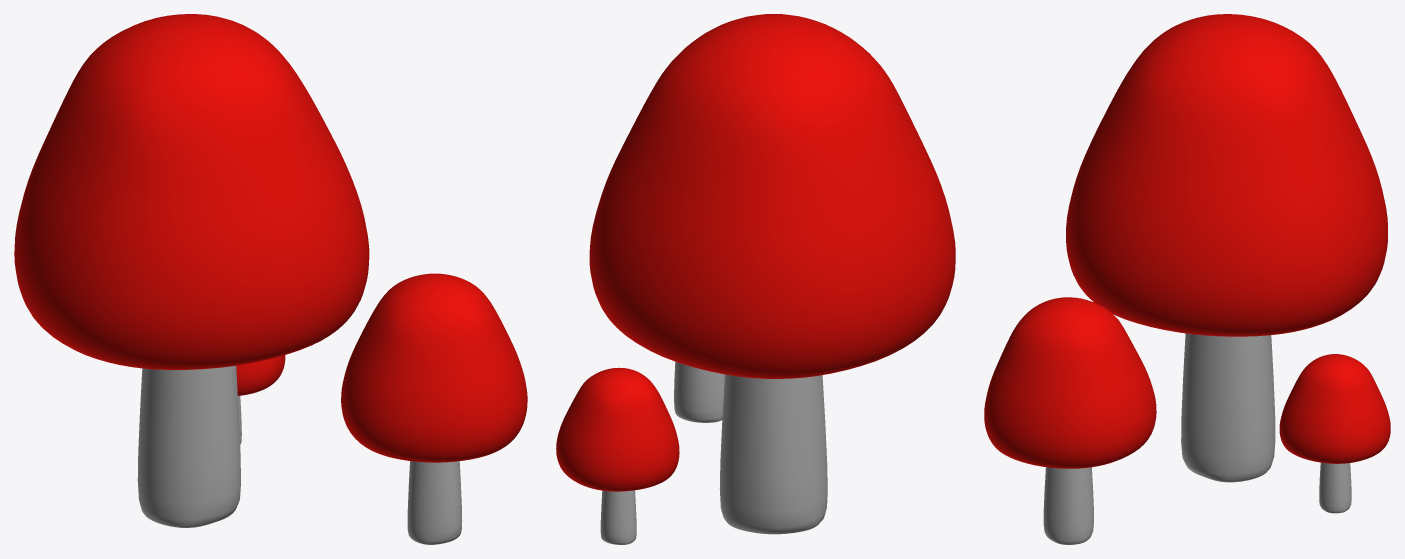
The model's file is mushroom.fbx.
3 renders of one model, left to right at view 1: azimuth 30°, elevation 25°; view 2: azimuth 150°, elevation 25°; view 3: azimuth 270°, elevation 25°, orthographic. The views are drawn at different scales.
Parts seen in each view (by area): view 1: Cube.007; view 2: Cube.007; view 3: Cube.007.
Part boxes in pixels (bbox=[...]): Cube.007: bbox=[14, 14, 527, 544]; Cube.007: bbox=[556, 14, 955, 544]; Cube.007: bbox=[984, 14, 1390, 544].
Size of the model in its own units: 58.5 by 69.02 by 57.78.
